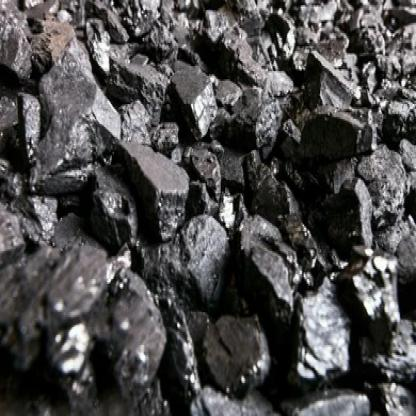Sedimentary_coal: (34, 35, 120, 170), (108, 138, 192, 238), (233, 233, 298, 322), (204, 297, 269, 378), (291, 294, 351, 376), (301, 98, 367, 164), (165, 54, 218, 136), (217, 94, 290, 145)
